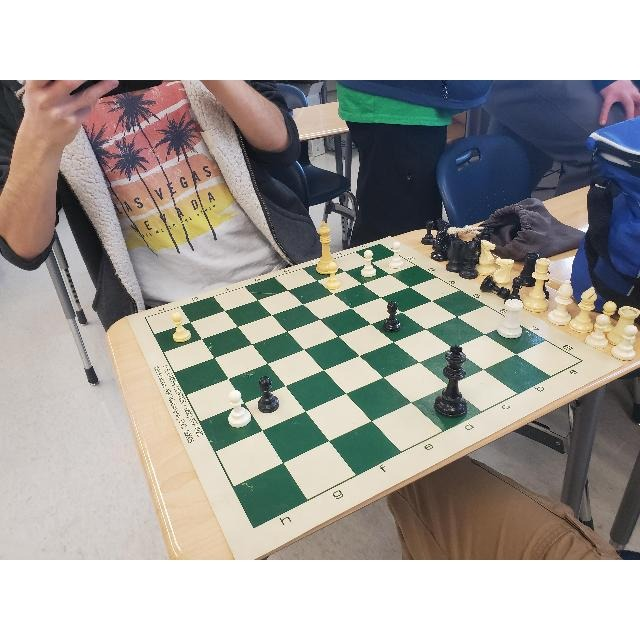black-king: (431, 343, 470, 421)
black-pawn: (255, 374, 280, 414), (381, 299, 403, 335)
white-king: (314, 221, 341, 277)
white-pawn: (224, 385, 255, 434), (169, 309, 192, 347), (358, 249, 380, 279), (386, 240, 406, 272), (324, 261, 342, 290)
white-rook: (495, 299, 524, 339)
